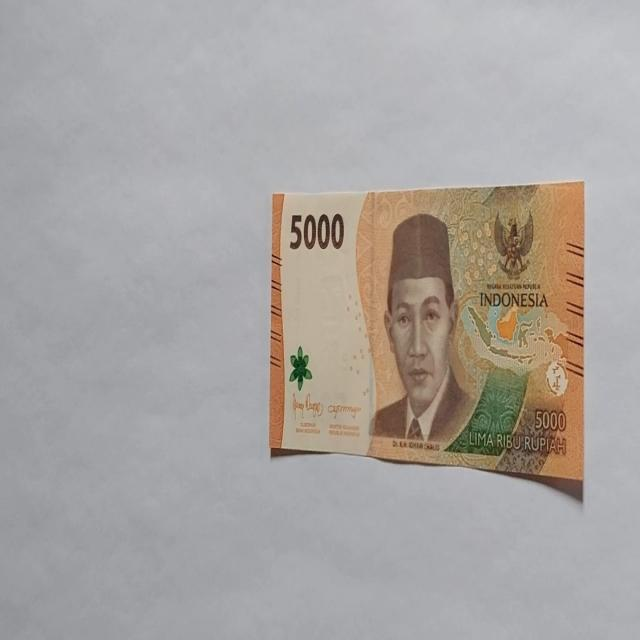lima ribu rupiah: (268, 181, 587, 503), (368, 212, 474, 446)
